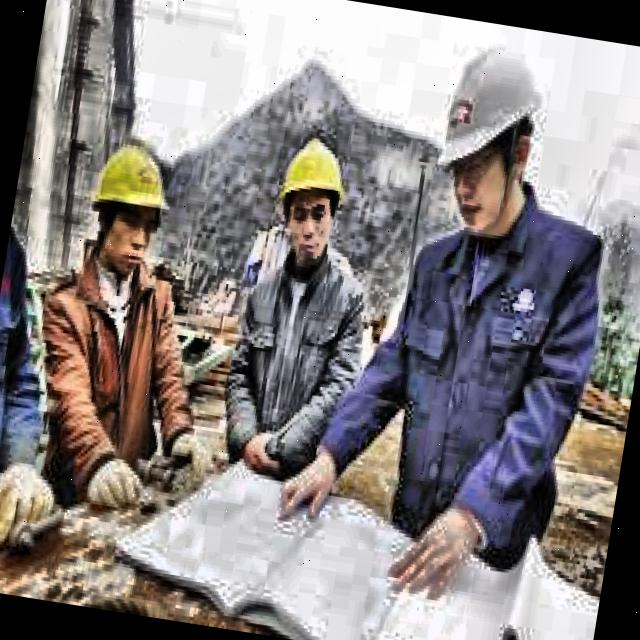helmet: (416, 19, 566, 244), (76, 118, 186, 293), (264, 126, 353, 274)
